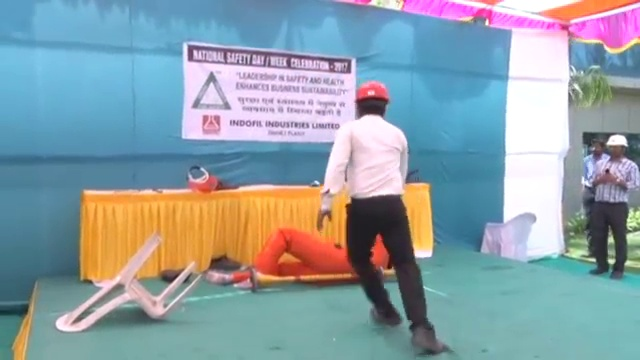helmet: (351, 77, 392, 104), (606, 133, 629, 150)
helmet_off: (591, 135, 605, 157)
helmet_on: (349, 77, 393, 121), (605, 132, 629, 160)
person: (316, 78, 448, 356), (207, 226, 394, 284), (591, 134, 640, 282), (581, 135, 606, 258)
